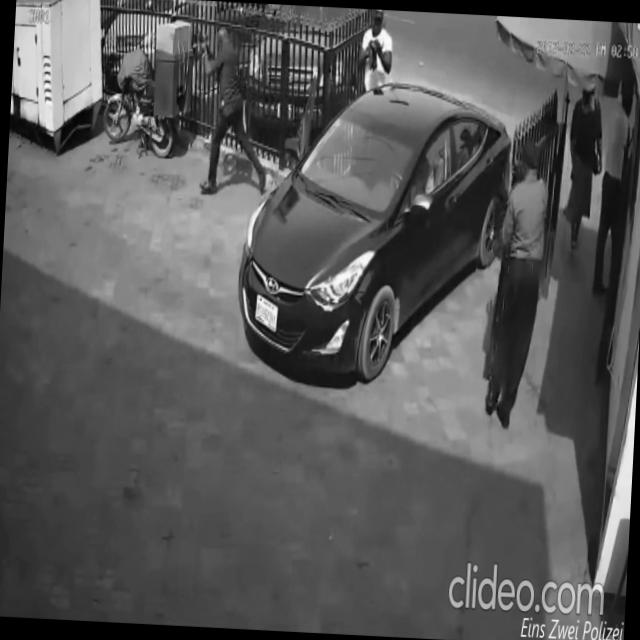gun: (192, 18, 220, 80), (366, 36, 384, 75)
person: (481, 134, 555, 435), (590, 86, 638, 303), (560, 80, 609, 256)
person with a gun: (187, 20, 276, 198), (356, 9, 398, 102)
